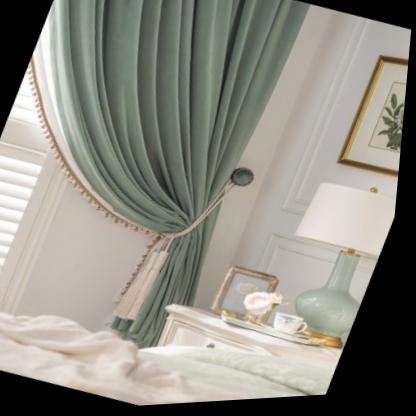Curtains: (0, 0, 317, 372)
Frame: (340, 61, 410, 181)
